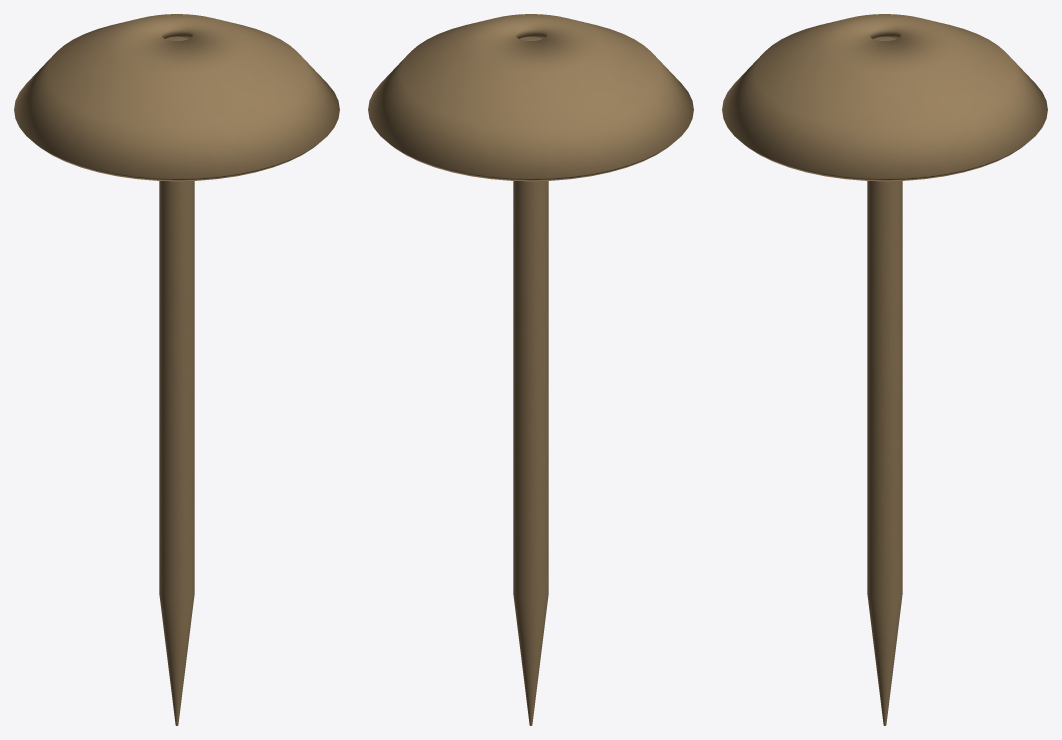
Rendered from stake-path-light.glb.
3 views of the same model, side by side, from view 1: azimuth 30°, elevation 25°; view 2: azimuth 150°, elevation 25°; view 3: azimuth 270°, elevation 25° (orthographic).
Parts seen in each view (by area): view 1: Path light | shallow shield cap, Path light | pointed ground stake; view 2: Path light | shallow shield cap, Path light | pointed ground stake; view 3: Path light | shallow shield cap, Path light | pointed ground stake.
Part boxes in pixels (x1,y1,x2,y2): Path light | shallow shield cap: (14,14,339,181); Path light | pointed ground stake: (159,181,194,725); Path light | shallow shield cap: (368,14,693,181); Path light | pointed ground stake: (513,181,548,725); Path light | shallow shield cap: (722,14,1047,181); Path light | pointed ground stake: (867,181,902,725).
Size of the model in its own units: 0.238 by 0.557 by 0.238.
2 materials, 2 textured.
